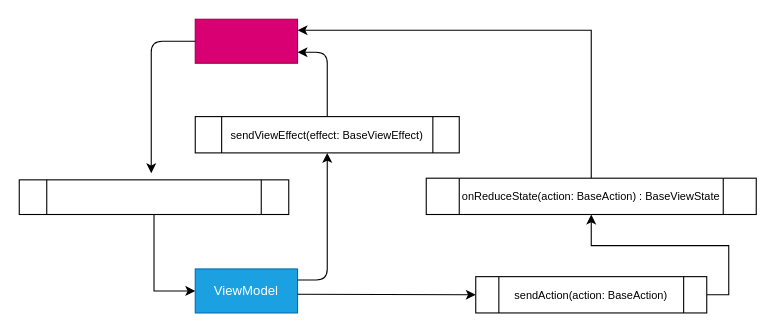
Image size: 776x332. Some labels were removed from this diagram. The shapes that lost their labels are listed below. From the top down, each one's box as (x1, y1, x2, y2) in pixels, then its label:
(194, 18, 298, 63): View
(18, 179, 289, 215): processViewEvent(event: BaseViewEvent)
